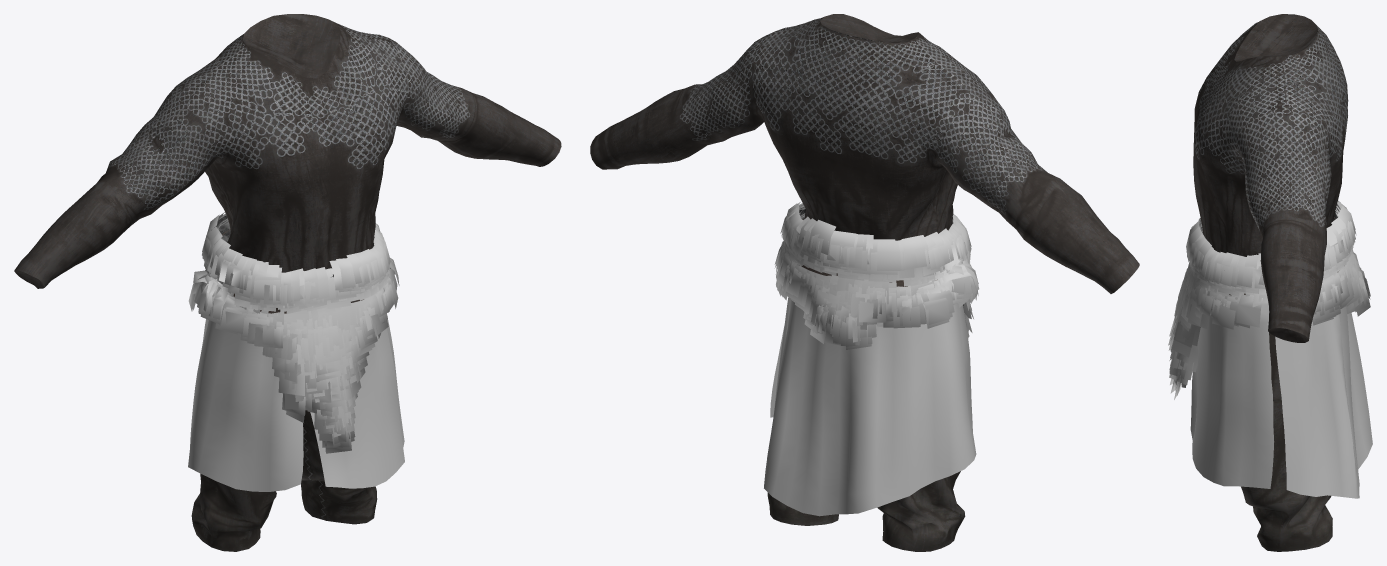
The model's file is sk_gb_uruk_chest_light_b.fbx.
3 renders of one model, left to right at view 1: azimuth 30°, elevation 25°; view 2: azimuth 150°, elevation 25°; view 3: azimuth 270°, elevation 25°, orthographic. The views are drawn at different scales.
Visible parts, largest first — view 1: sk_gb_uruk_chest_light_b.base.1, sk_gb_uruk_chest_light_b.skirt.2, sk_gb_uruk_chest_light_b.skirt.1, sk_gb_uruk_chest_light_b.base.0; view 2: sk_gb_uruk_chest_light_b.base.1, sk_gb_uruk_chest_light_b.skirt.1, sk_gb_uruk_chest_light_b.skirt.2, sk_gb_uruk_chest_light_b.base.0; view 3: sk_gb_uruk_chest_light_b.base.1, sk_gb_uruk_chest_light_b.skirt.1, sk_gb_uruk_chest_light_b.skirt.2, sk_gb_uruk_chest_light_b.base.0.
Boxes of the visible parts, <box> form: sk_gb_uruk_chest_light_b.base.1: <box>14,14,561,288</box>; sk_gb_uruk_chest_light_b.skirt.2: <box>188,212,399,453</box>; sk_gb_uruk_chest_light_b.skirt.1: <box>188,319,404,491</box>; sk_gb_uruk_chest_light_b.base.0: <box>191,410,377,551</box>; sk_gb_uruk_chest_light_b.base.1: <box>590,14,1139,293</box>; sk_gb_uruk_chest_light_b.skirt.1: <box>764,297,976,516</box>; sk_gb_uruk_chest_light_b.skirt.2: <box>774,202,979,349</box>; sk_gb_uruk_chest_light_b.base.0: <box>767,471,965,551</box>; sk_gb_uruk_chest_light_b.base.1: <box>1193,14,1348,342</box>; sk_gb_uruk_chest_light_b.skirt.1: <box>1190,305,1372,498</box>; sk_gb_uruk_chest_light_b.skirt.2: <box>1168,200,1370,399</box>; sk_gb_uruk_chest_light_b.base.0: <box>1241,332,1332,551</box>.
Bounding box in the file's own units: 1.35 × 0.4584 × 1.2.
